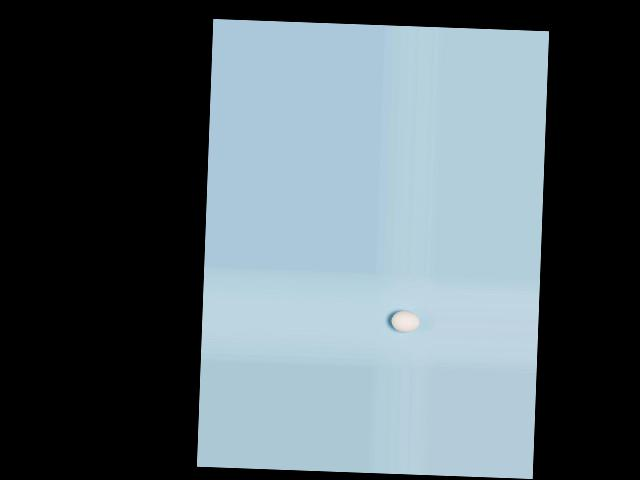egg: (390, 310, 420, 332)
